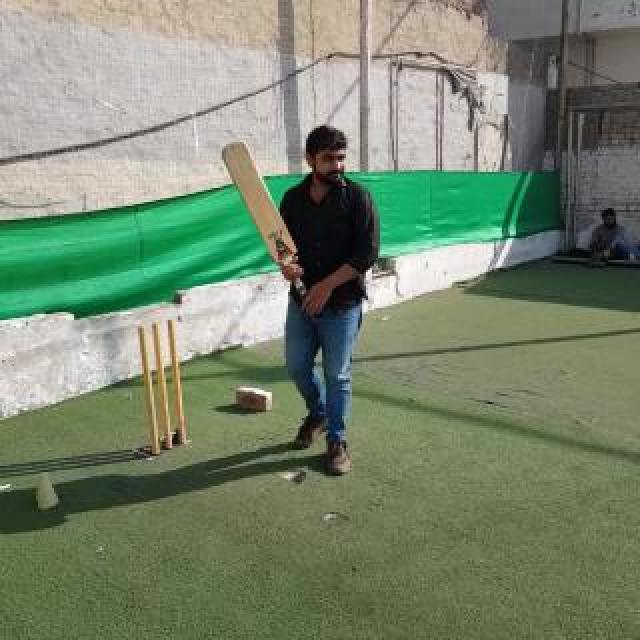bat: (221, 139, 313, 317)
